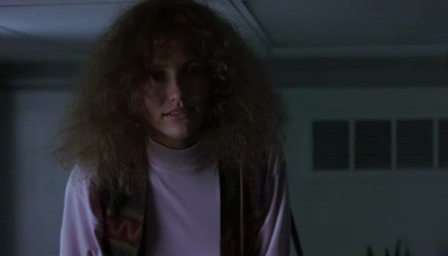face: (140, 52, 210, 140)
mcu: (1, 1, 448, 256)
person: (58, 1, 292, 256)
